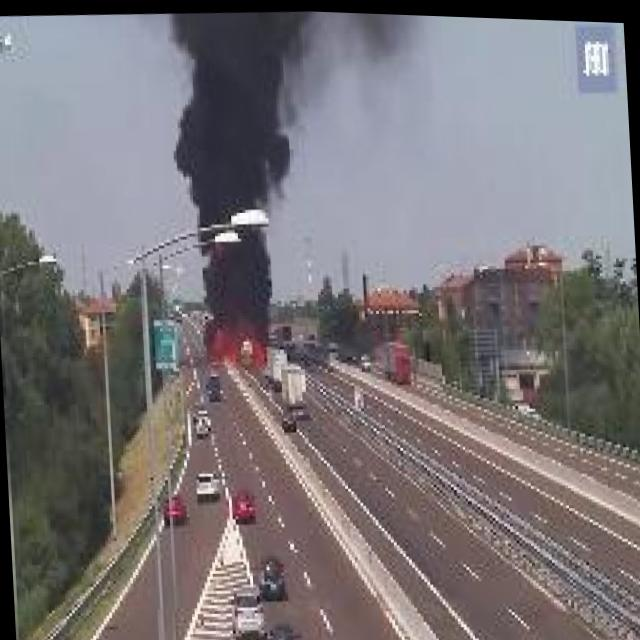fire: (198, 305, 274, 371)
